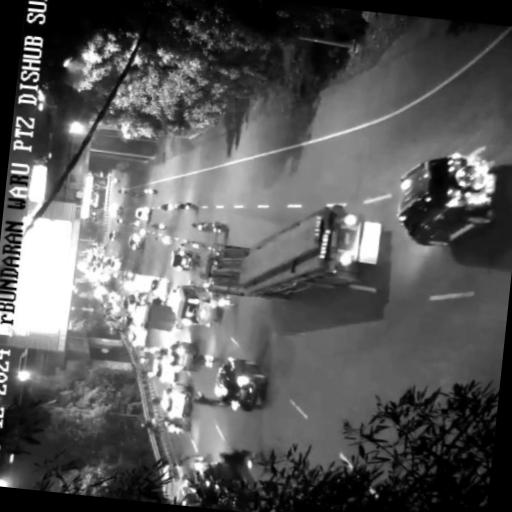car: (391, 144, 501, 256), (212, 350, 268, 416)
truck: (198, 192, 389, 314)
